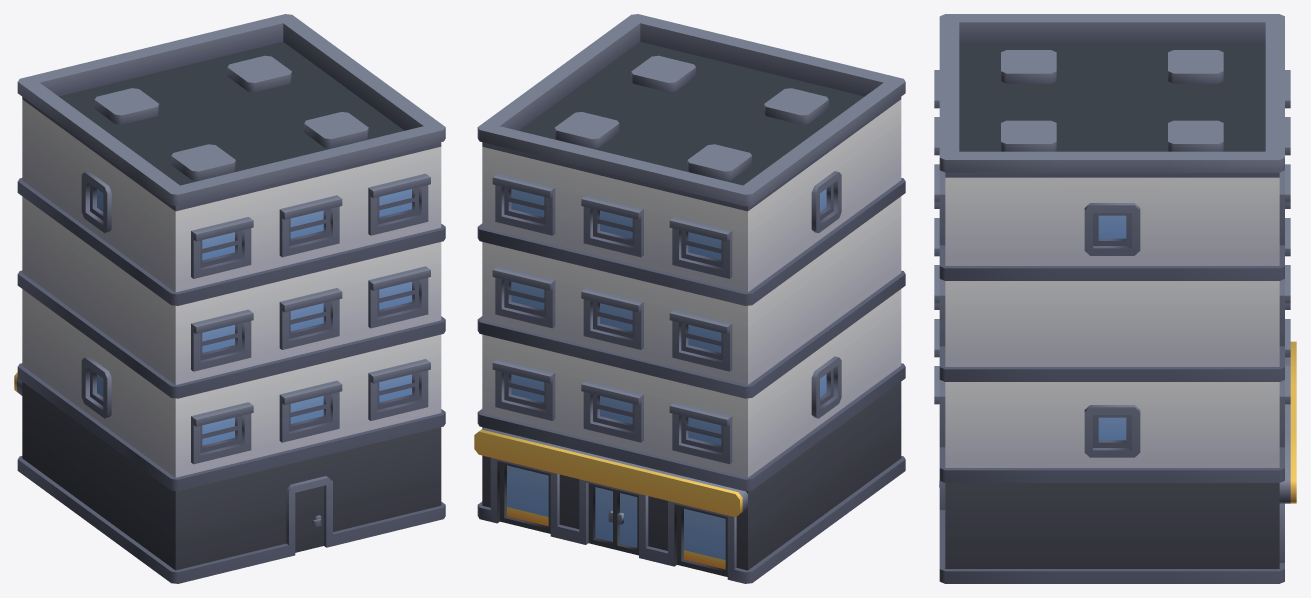
File: k-city-kit-commercial-building-i.glb
3 renders of one model, left to right at view 1: azimuth 30°, elevation 25°; view 2: azimuth 150°, elevation 25°; view 3: azimuth 270°, elevation 25°, orthographic. The views are drawn at different scales.
Parts seen in each view (by area): view 1: building-i; view 2: building-i; view 3: building-i.
Boxes of the visible parts, bbox=[...] form: building-i: bbox=[14, 14, 445, 583]; building-i: bbox=[474, 14, 905, 583]; building-i: bbox=[934, 14, 1296, 583].
Size of the model in its own units: 1.24 by 1.68 by 1.3.
1 material, 1 textured.
